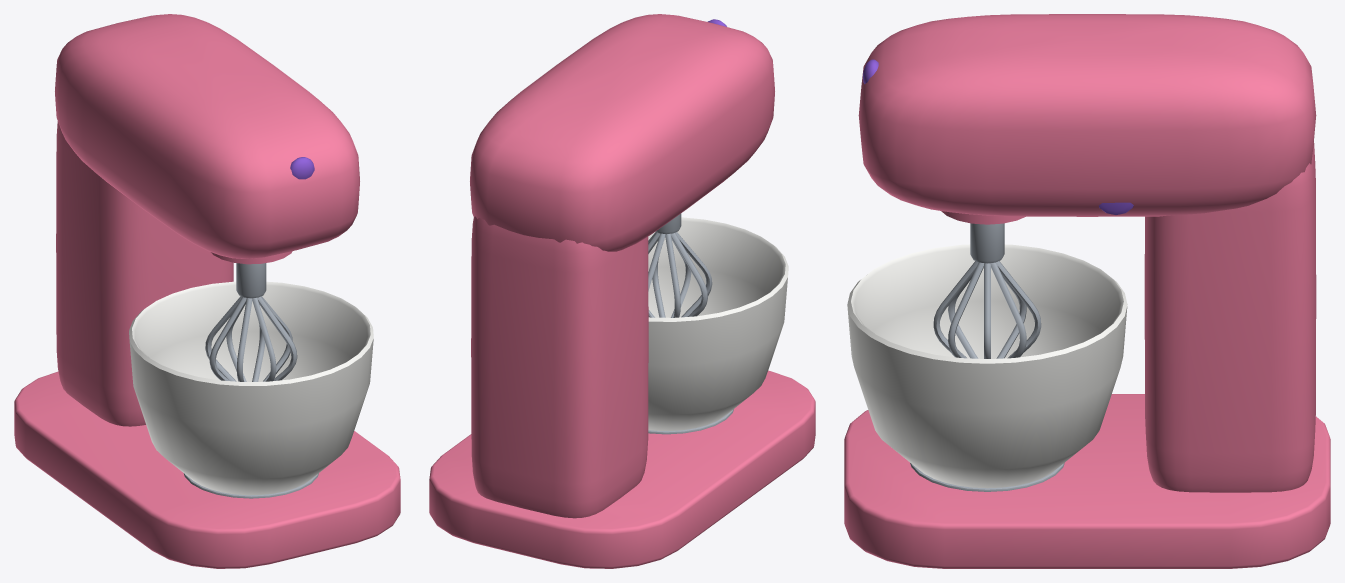
Rendered from batedeira_planetaria_rosa.glb.
3 views of the same model, side by side, from view 1: azimuth 30°, elevation 25°; view 2: azimuth 150°, elevation 25°; view 3: azimuth 270°, elevation 25° (orthographic). The views are drawn at different scales.
Visible parts, largest first — view 1: batedeira_planetaria_rosa; view 2: batedeira_planetaria_rosa; view 3: batedeira_planetaria_rosa.
Boxes of the visible parts, <box> form: batedeira_planetaria_rosa: <box>14,14,400,568</box>; batedeira_planetaria_rosa: <box>429,14,815,568</box>; batedeira_planetaria_rosa: <box>844,14,1330,568</box>.
Size of the model in its own units: 0.22 by 0.36 by 0.34.
Materials: 1 (1 with a texture image).
